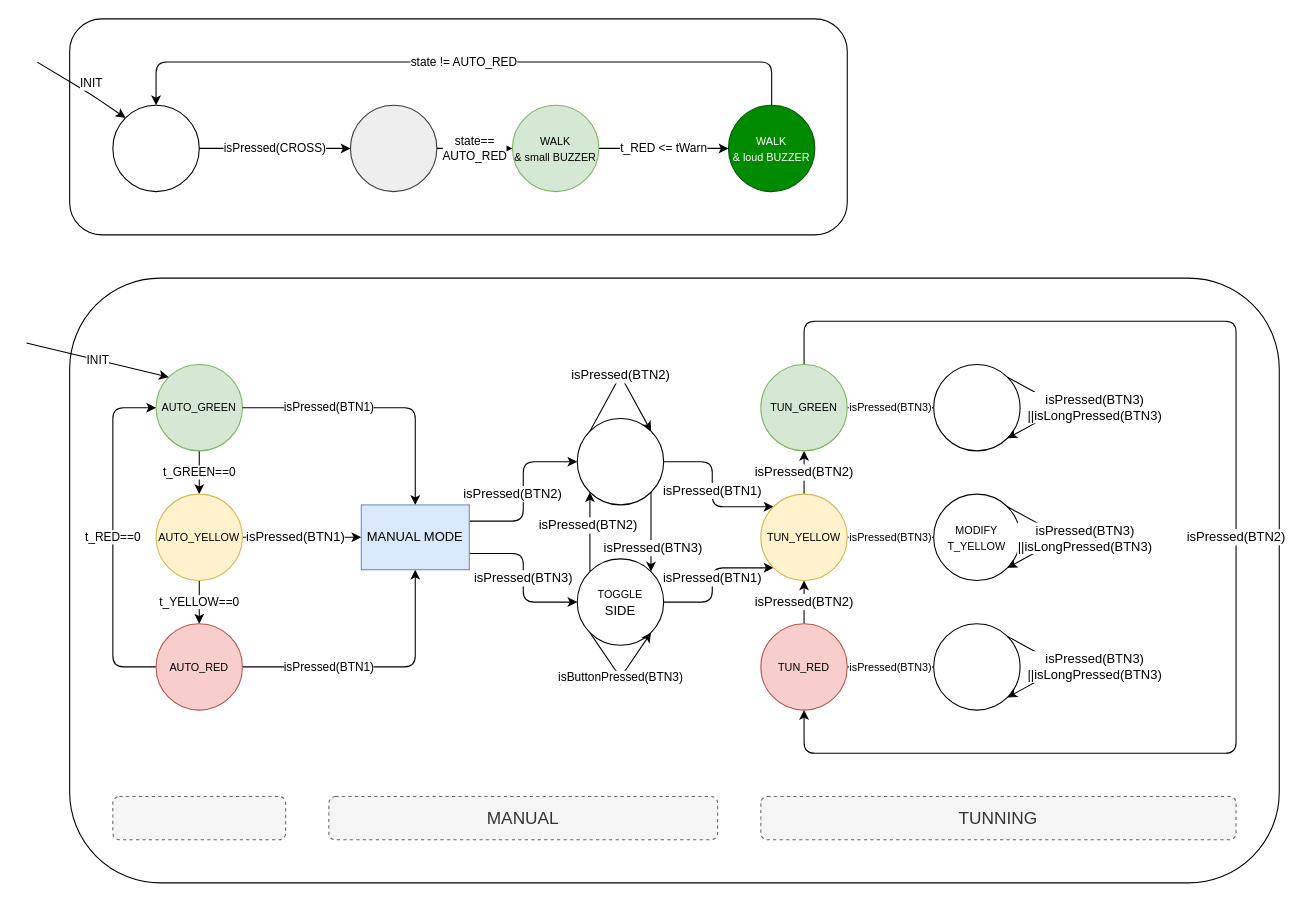
Image size: 1304x902. Some labels were removed from this diagram. Here are the shapes that lost their labels. From the top down, the box of each, then its label:
(112, 104, 199, 192): Pedestrian OFF
(349, 104, 437, 192): PENDING
(933, 363, 1020, 451): MODIFY T_GREEN
(576, 417, 664, 505): TOGGLE COLOR
(933, 623, 1020, 710): MODIFY T_REDD
(112, 795, 286, 840): AUTO
